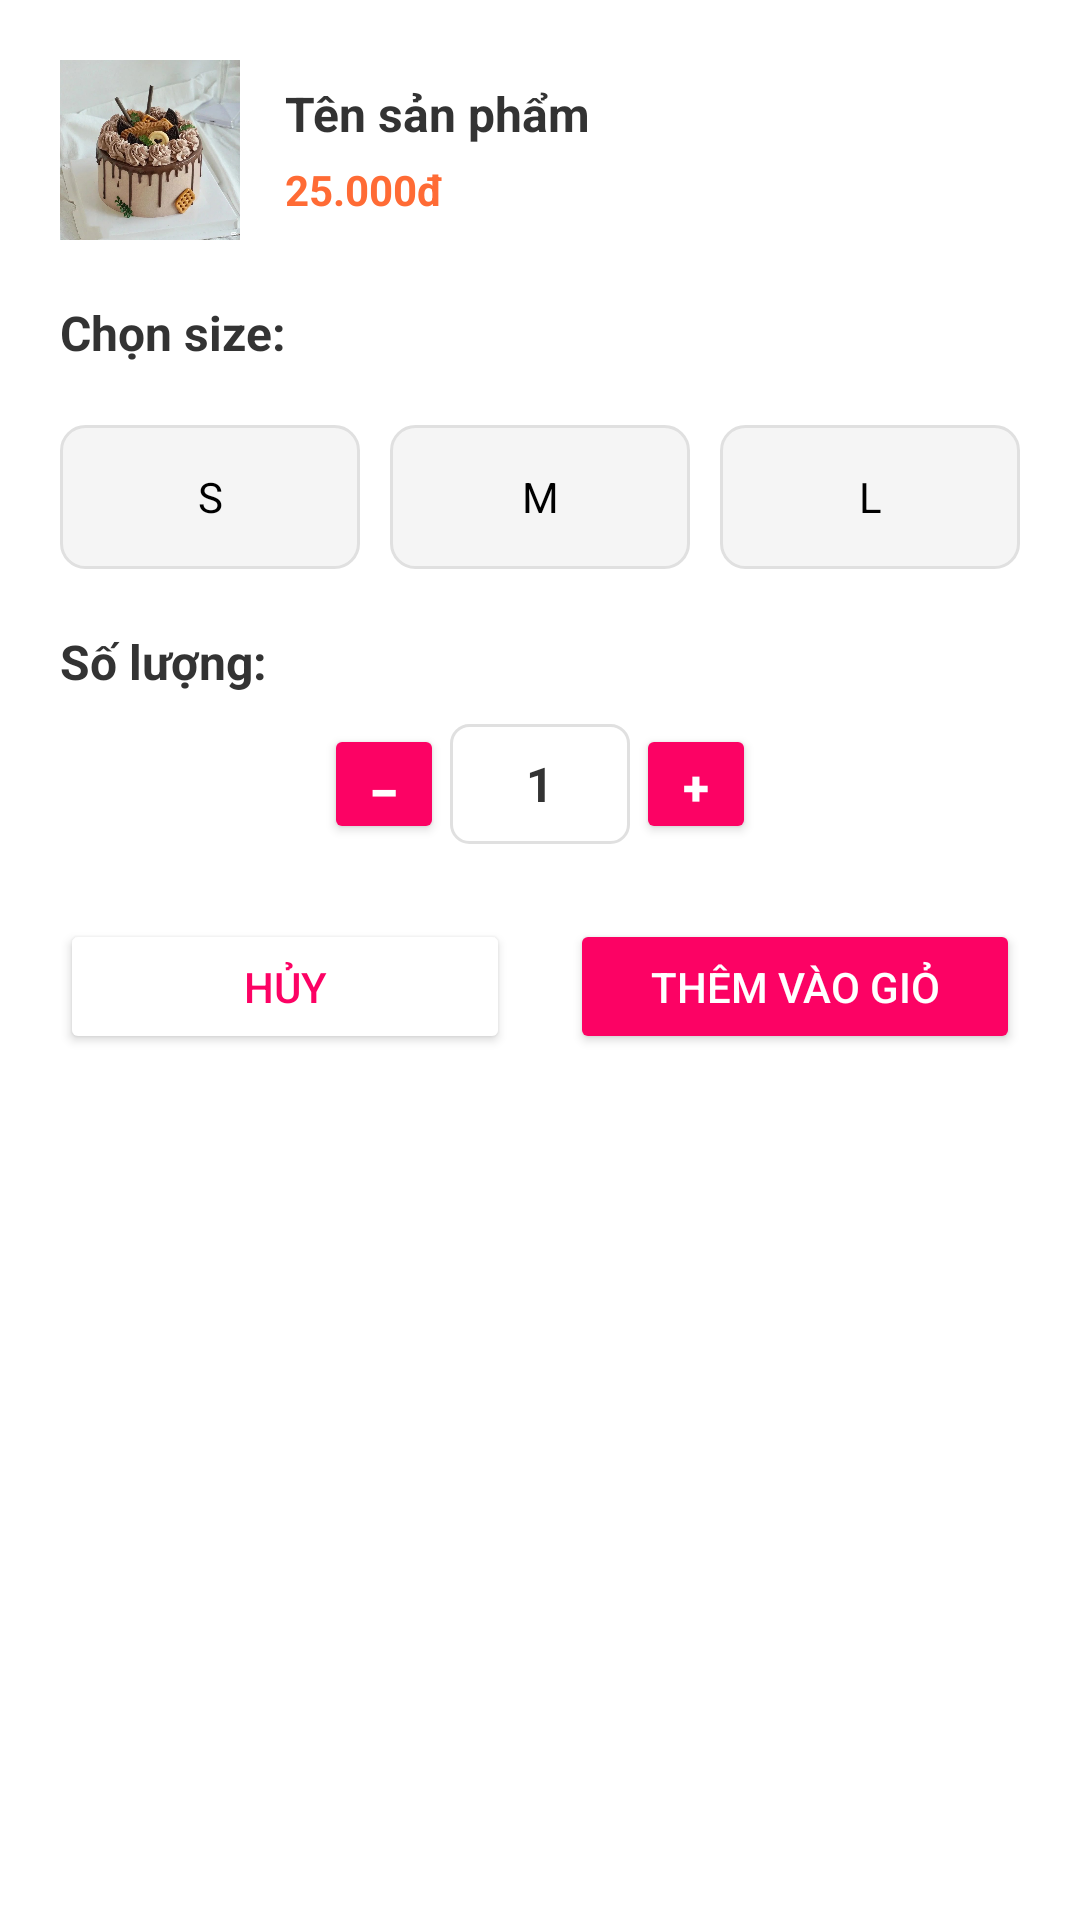

Icons on this 1080*1920 Android screen, each with its box as rect(x1, y1, x2, y2):
banhkem: rect(60, 60, 240, 240)
